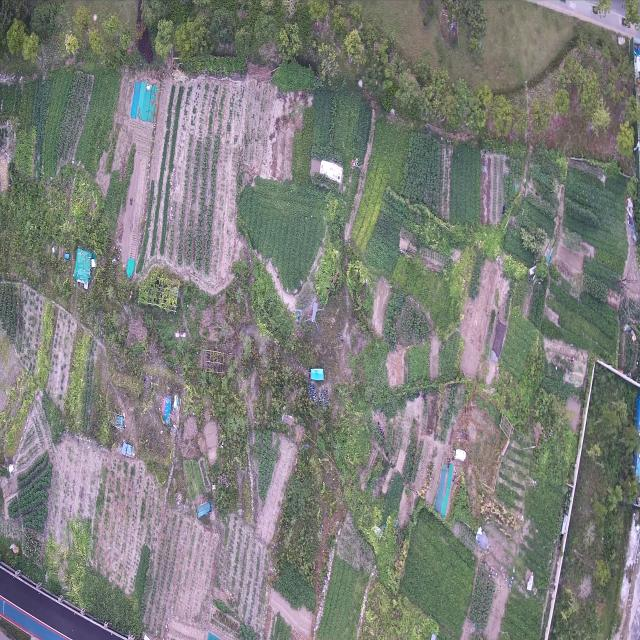UAV: (303, 297, 324, 332)
